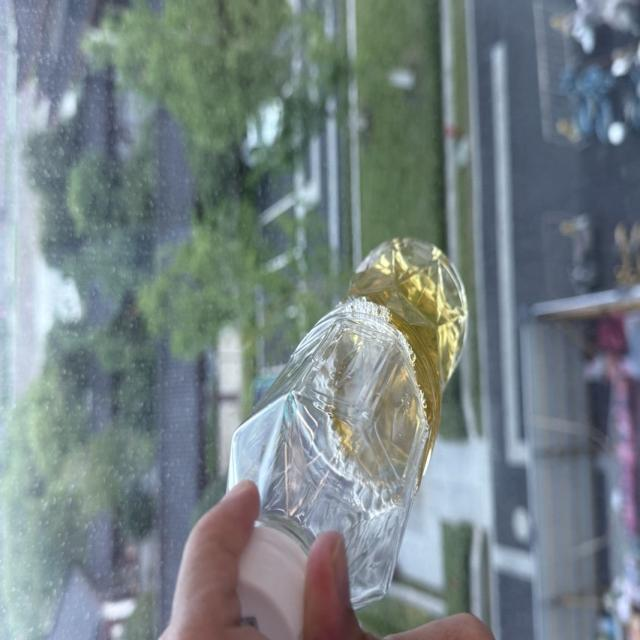medium: (227, 238, 466, 639)
